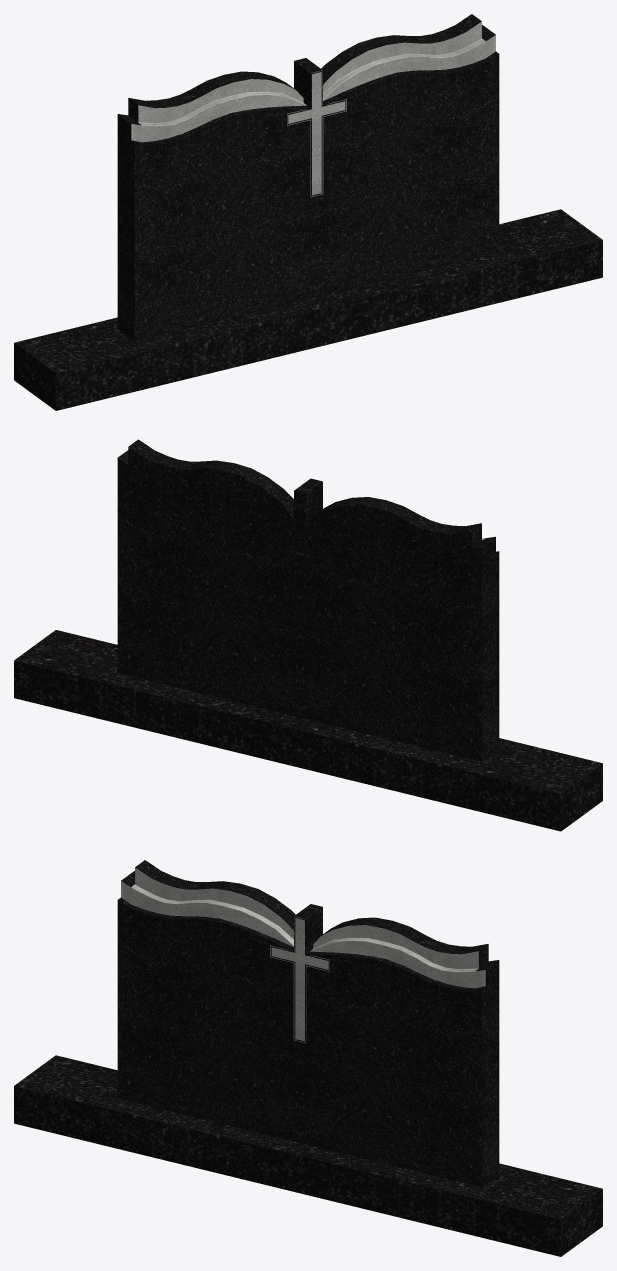
The model's file is Number 28.gltf.
The picture shows the model from 3 angles, top to bottom: view 1: azimuth 30°, elevation 25°; view 2: azimuth 150°, elevation 25°; view 3: azimuth 330°, elevation 25°; orthographic projection.
Parts seen in each view (by area): view 1: Cube.031, Cube.030; view 2: Cube.031, Cube.030; view 3: Cube.031, Cube.030.
Boxes of the visible parts, x1,y1,x2,y2 form: Cube.031: [117, 14, 499, 341]; Cube.030: [14, 209, 602, 410]; Cube.031: [117, 439, 499, 761]; Cube.030: [14, 630, 602, 831]; Cube.031: [117, 860, 499, 1187]; Cube.030: [14, 1055, 602, 1256].
Bounding box in the file's own units: 1.5 × 0.6998 × 0.2.
Materials: 2 (2 with a texture image).
